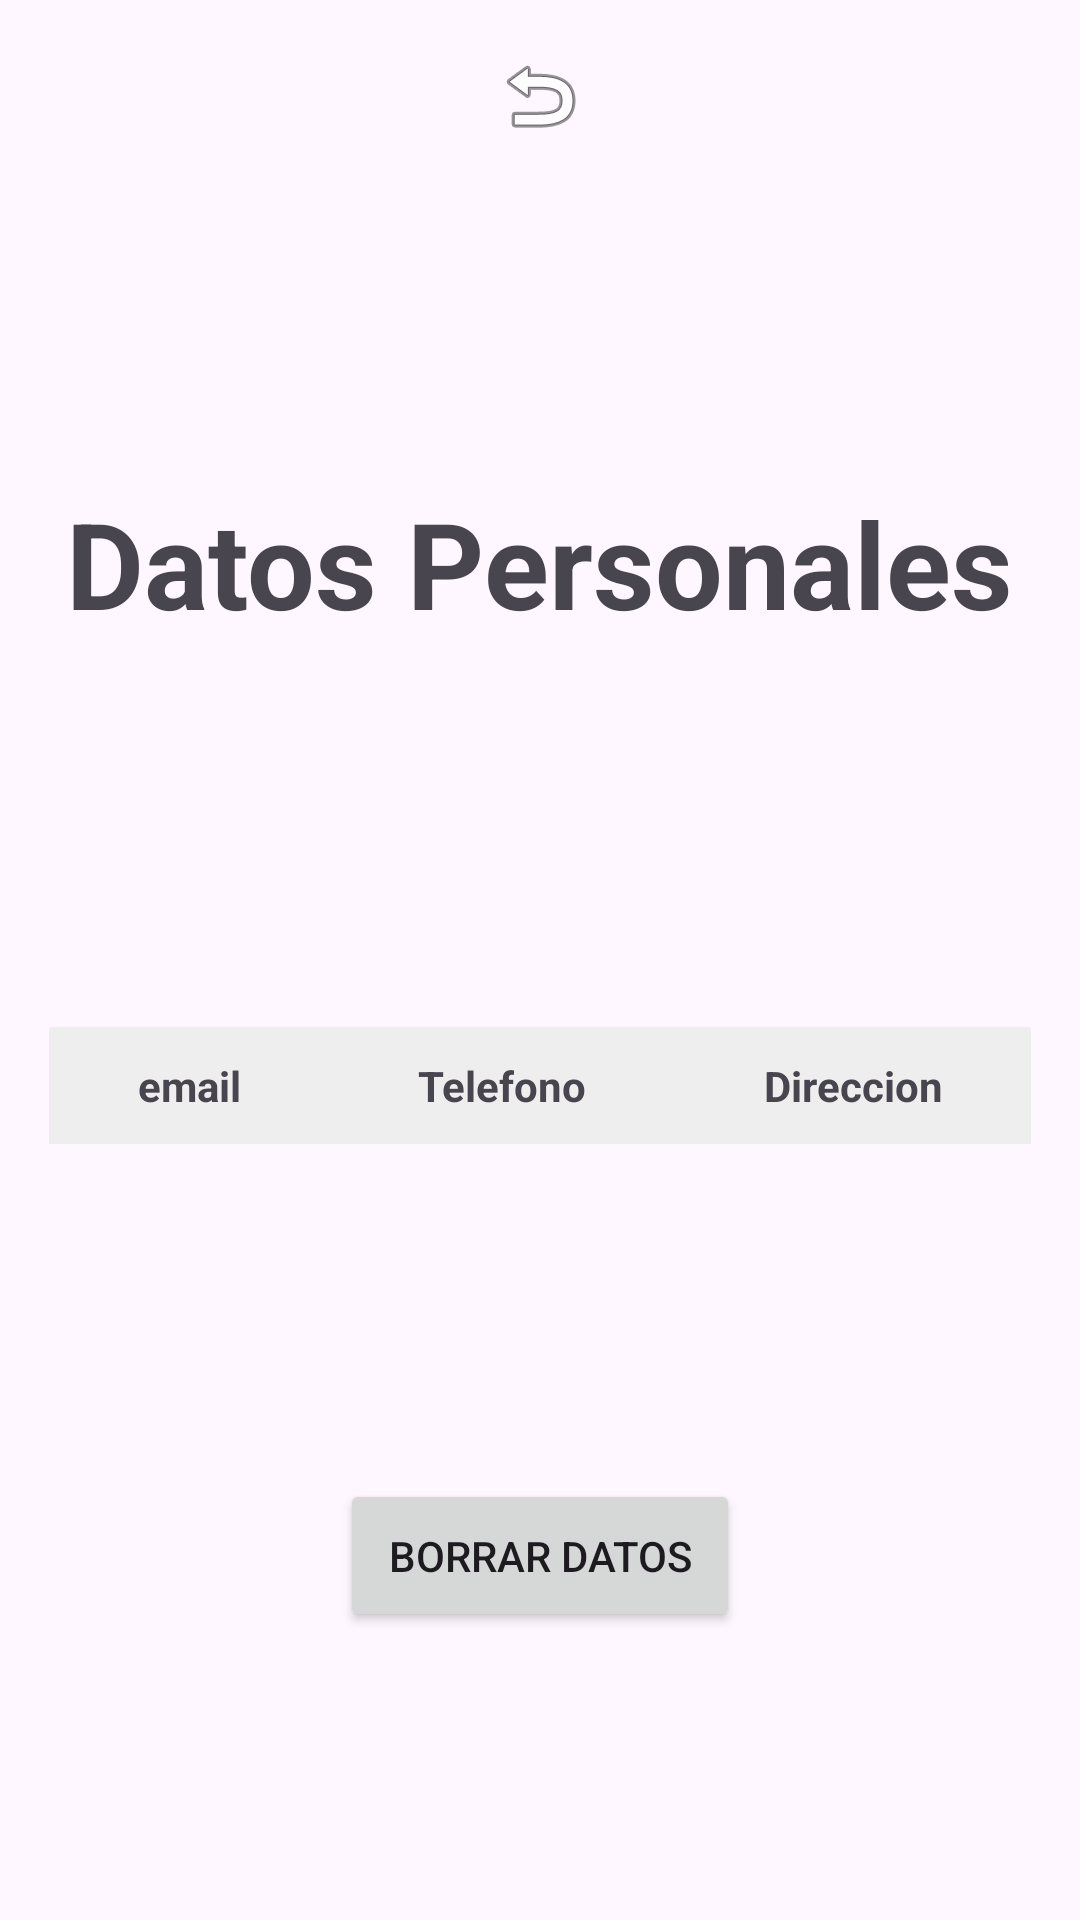

Icon bounding boxes for this 1080*1920 phone screenshot, format (left=x1, top=y1, right=x2, bottom=y2):
revert: (left=507, top=65, right=576, bottom=128)
